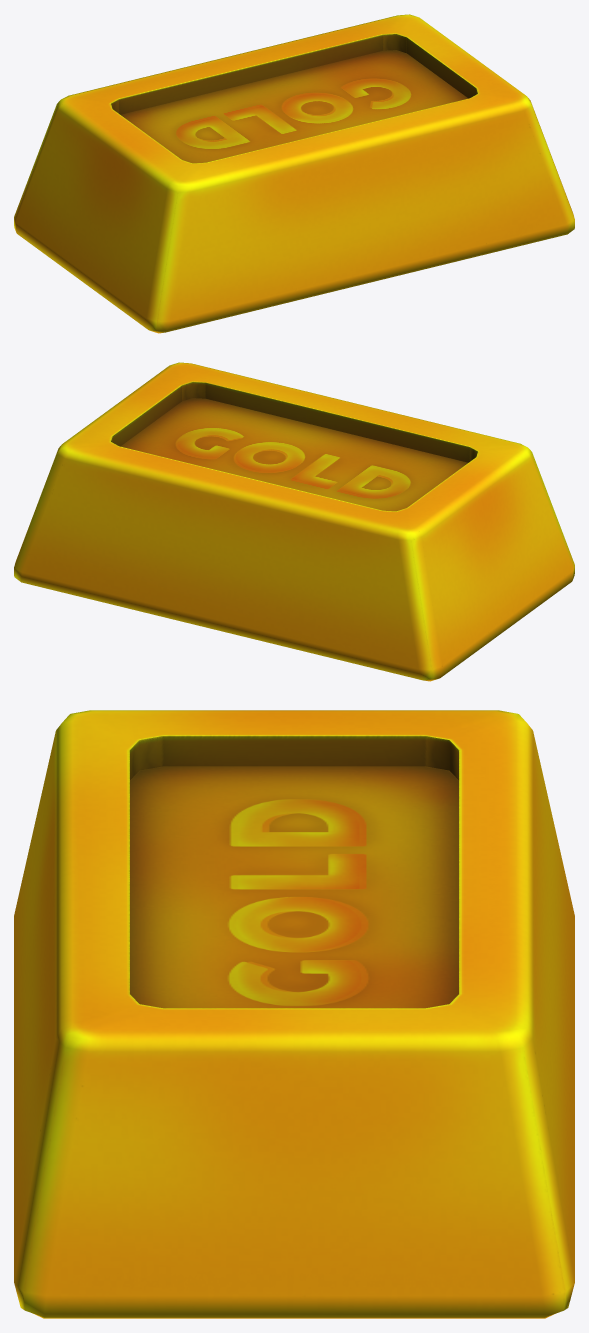
Rendered from GoldBar.fbx.
3 renders of one model, top to bottom at view 1: azimuth 30°, elevation 25°; view 2: azimuth 150°, elevation 25°; view 3: azimuth 270°, elevation 25°, orthographic. The views are drawn at different scales.
Visible parts, largest first — view 1: GoldBar; view 2: GoldBar; view 3: GoldBar.
Part boxes in pixels (bbox=[...]): GoldBar: bbox=[14, 14, 574, 333]; GoldBar: bbox=[14, 362, 574, 681]; GoldBar: bbox=[14, 710, 574, 1318].
Size of the model in its own units: 0.1954 by 0.06 by 0.1173.
